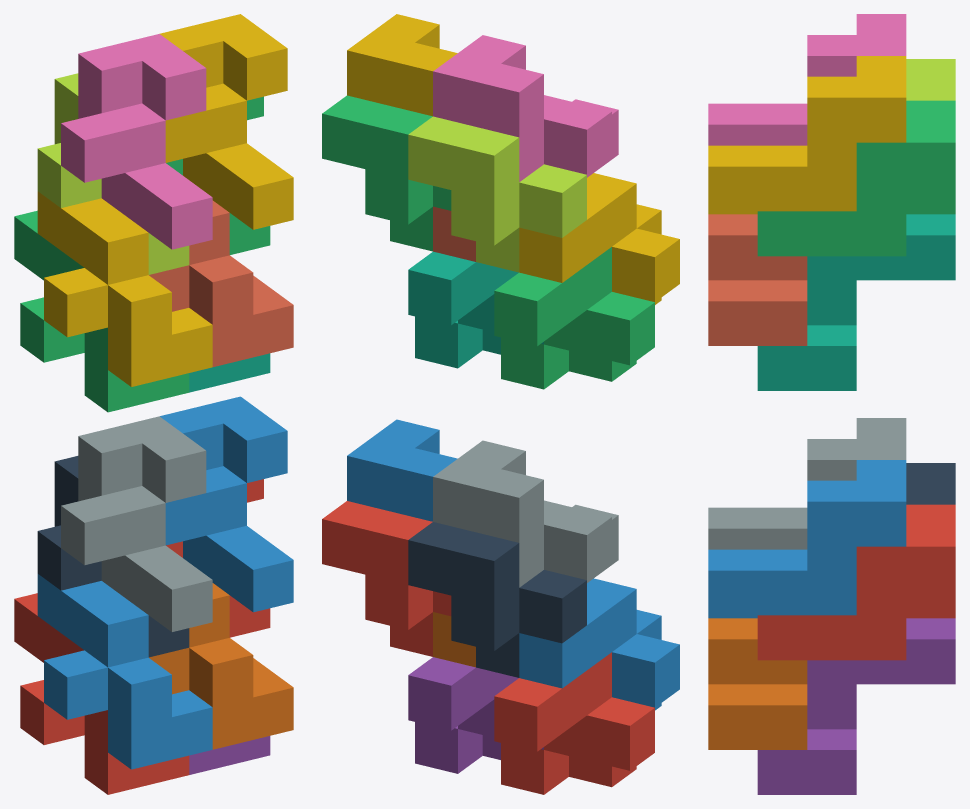
The model's file is tiling.obj.
The picture shows the model from 3 angles, left to right: view 1: azimuth 30°, elevation 25°; view 2: azimuth 150°, elevation 25°; view 3: azimuth 270°, elevation 25°; orthographic projection. The views are drawn at different scales.
Parts seen in each view (by area): view 1: copy_2_domain_2, copy_2_domain_4, copy_1_domain_4, copy_1_domain_2, copy_2_domain_6, copy_2_domain_8, copy_1_domain_6, copy_1_domain_8, copy_1_domain_1, copy_1_domain_3, copy_2_domain_1, copy_2_domain_3 (+4 smaller); view 2: copy_2_domain_3, copy_2_domain_1, copy_1_domain_1, copy_1_domain_3, copy_2_domain_4, copy_2_domain_2, copy_1_domain_2, copy_1_domain_4, copy_2_domain_7, copy_2_domain_5, copy_1_domain_5, copy_1_domain_7 (+4 smaller); view 3: copy_2_domain_6, copy_2_domain_8, copy_2_domain_5, copy_2_domain_7, copy_1_domain_5, copy_1_domain_7, copy_1_domain_6, copy_1_domain_8, copy_2_domain_2, copy_2_domain_4, copy_2_domain_1, copy_2_domain_3.
Boxes of the visible parts, bbox=[...] form: copy_2_domain_2: bbox=[61, 416, 212, 631]; copy_2_domain_4: bbox=[61, 34, 212, 249]; copy_1_domain_4: bbox=[37, 191, 212, 386]; copy_1_domain_2: bbox=[37, 574, 212, 769]; copy_2_domain_6: bbox=[160, 396, 293, 612]; copy_2_domain_8: bbox=[159, 14, 293, 229]; copy_1_domain_6: bbox=[149, 583, 293, 749]; copy_1_domain_8: bbox=[149, 200, 293, 366]; copy_1_domain_1: bbox=[14, 593, 189, 794]; copy_1_domain_3: bbox=[14, 210, 189, 412]; copy_2_domain_1: bbox=[37, 456, 189, 657]; copy_2_domain_3: bbox=[37, 73, 189, 274]; copy_2_domain_3: bbox=[408, 116, 586, 272]; copy_2_domain_1: bbox=[408, 522, 586, 677]; copy_1_domain_1: bbox=[494, 652, 654, 794]; copy_1_domain_3: bbox=[494, 247, 654, 389]; copy_2_domain_4: bbox=[433, 35, 618, 181]; copy_2_domain_2: bbox=[433, 440, 618, 587]; copy_1_domain_2: bbox=[519, 578, 679, 710]; copy_1_domain_4: bbox=[519, 173, 679, 304]; copy_2_domain_7: bbox=[322, 95, 451, 251]; copy_2_domain_5: bbox=[322, 501, 451, 656]; copy_1_domain_5: bbox=[408, 657, 543, 773]; copy_1_domain_7: bbox=[408, 251, 543, 368]; copy_2_domain_6: bbox=[708, 460, 906, 615]; copy_2_domain_8: bbox=[708, 56, 906, 211]; copy_2_domain_5: bbox=[757, 504, 955, 660]; copy_2_domain_7: bbox=[757, 100, 955, 256]; copy_1_domain_5: bbox=[757, 618, 955, 794]; copy_1_domain_7: bbox=[757, 214, 955, 390]; copy_1_domain_6: bbox=[708, 618, 807, 749]; copy_1_domain_8: bbox=[708, 214, 807, 345]; copy_2_domain_2: bbox=[708, 418, 906, 549]; copy_2_domain_4: bbox=[708, 14, 906, 145]; copy_2_domain_1: bbox=[906, 463, 955, 504]; copy_2_domain_3: bbox=[906, 59, 955, 100].
Bounding box in the file's own units: 6 × 16 × 5.
